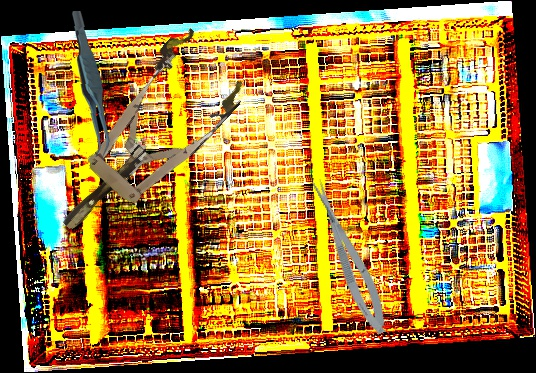Micro Scissor: (306, 174, 394, 339)
Speculum: (30, 22, 256, 258)
Tissue Forceps: (66, 10, 115, 158)
